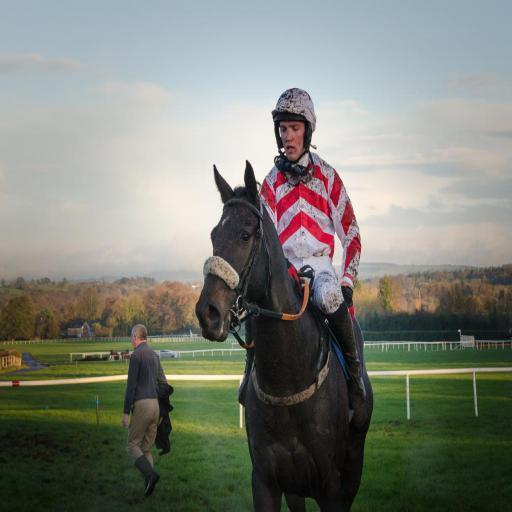horse: (194, 156, 375, 512)
